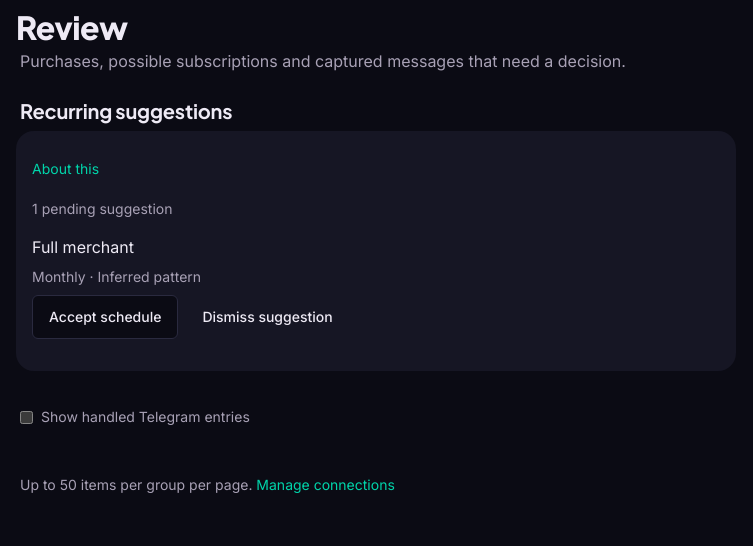
Test case: accepts an inferred recurring schedule and opens its billing controls
Click the button "Accept schedule": (105,317) [32,295,178,339]
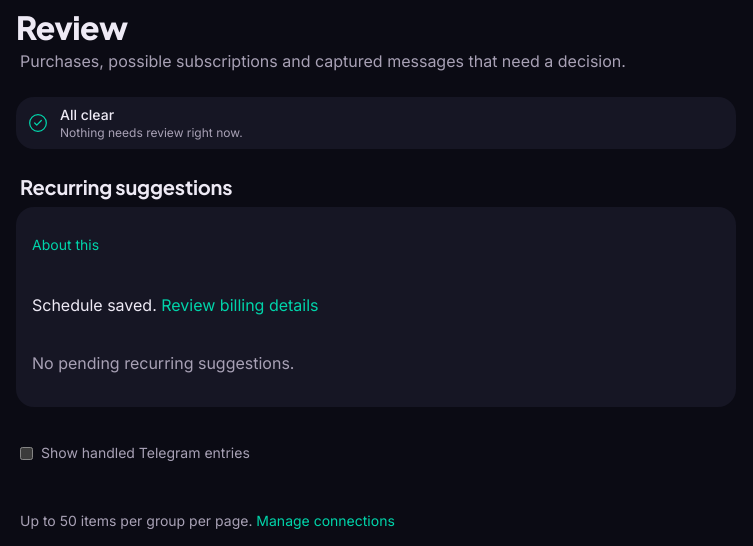
Expected: the text "No pending recurring suggestions." is shown, [32,353,294,373]
